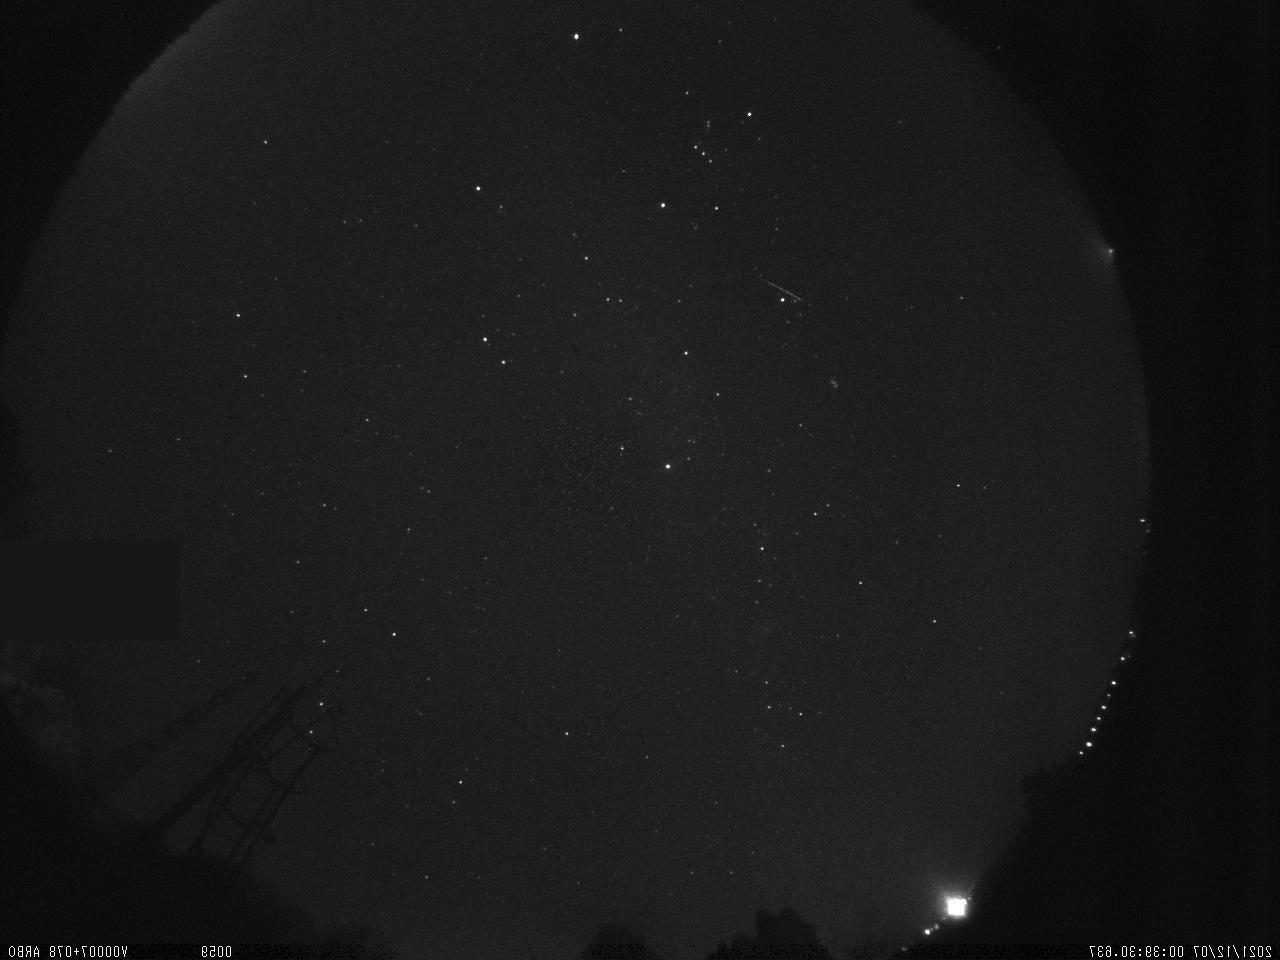meteor: (747, 256, 821, 320)
